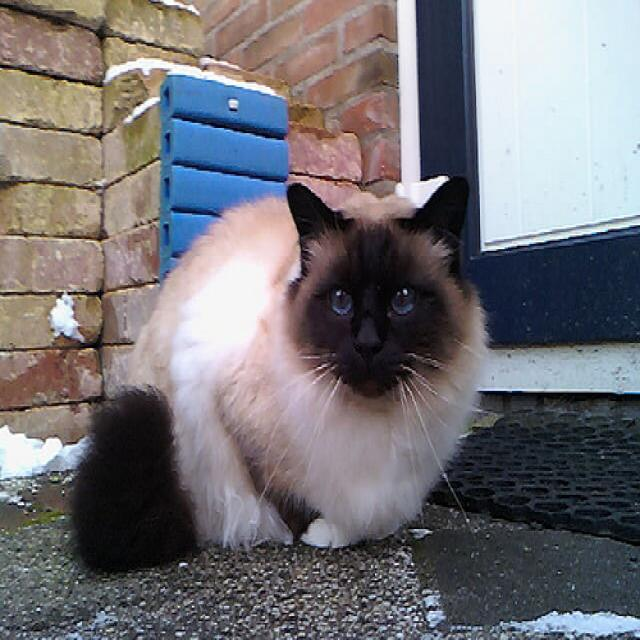Birman: (286, 174, 468, 398)
